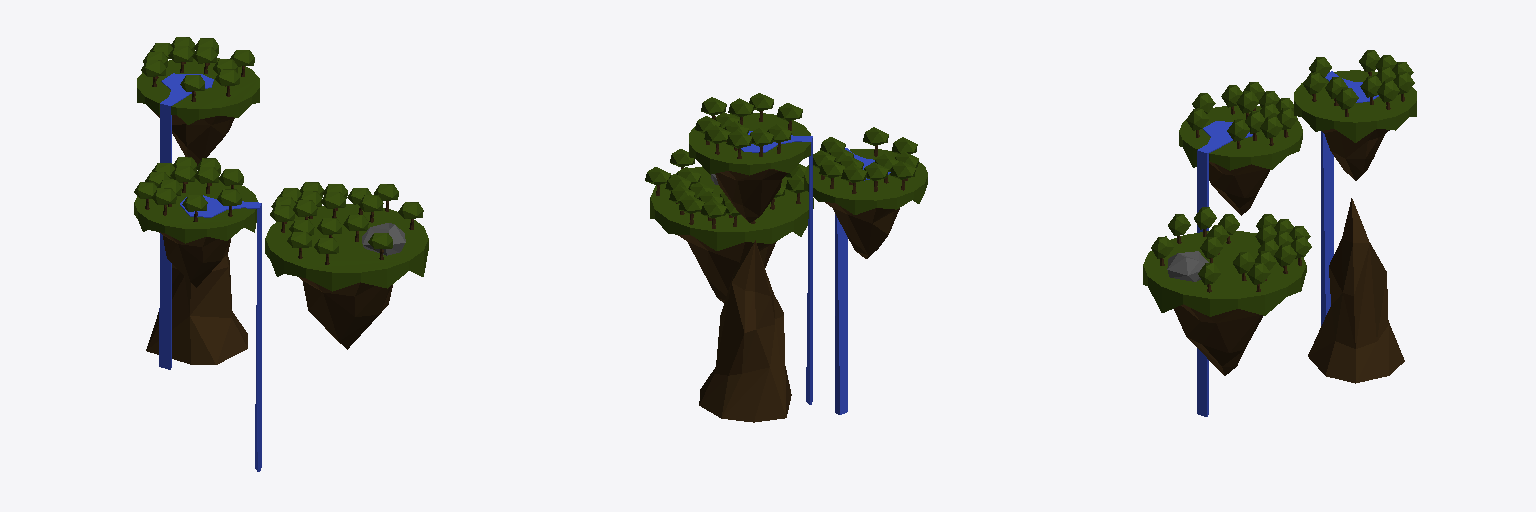
The model's file is islands.obj.
3 views of the same model, side by side, from view 1: azimuth 30°, elevation 25°; view 2: azimuth 150°, elevation 25°; view 3: azimuth 270°, elevation 25° (orthographic).
Visible parts, largest first — view 1: Grass_inst_3_1, Rock_0, Grass_1, Grass_inst_2_1, ground_inst_3_2, Water_inst_2_5, Water_5, ground_inst_2_2, ground_2, GeoSphere0_6; view 2: Rock_0, Grass_inst_3_1, Grass_1, Grass_inst_2_1, Water_5, ground_2, ground_inst_3_2, ground_inst_2_2, Water_inst_2_5; view 3: Rock_0, Grass_inst_3_1, Grass_1, Grass_inst_2_1, ground_inst_3_2, Water_inst_2_5, Water_5, ground_inst_2_2, ground_2, GeoSphere0_6.
Boxes of the visible parts, x1,y1,x2,y2 form: Grass_inst_3_1: [265, 204, 428, 291]; Rock_0: [146, 254, 247, 364]; Grass_1: [137, 58, 259, 124]; Grass_inst_2_1: [134, 179, 257, 243]; ground_inst_3_2: [299, 277, 392, 349]; Water_inst_2_5: [159, 73, 213, 369]; Water_5: [180, 195, 261, 471]; ground_inst_2_2: [159, 232, 230, 287]; ground_2: [151, 109, 234, 165]; GeoSphere0_6: [362, 223, 405, 255]; Rock_0: [699, 240, 791, 422]; Grass_inst_3_1: [650, 166, 813, 250]; Grass_1: [689, 113, 810, 175]; Grass_inst_2_1: [804, 149, 927, 214]; Water_5: [835, 148, 890, 414]; ground_2: [715, 169, 787, 222]; ground_inst_3_2: [678, 235, 776, 302]; ground_inst_2_2: [825, 202, 899, 258]; Water_inst_2_5: [741, 131, 812, 404]; Rock_0: [1308, 198, 1404, 383]; Grass_inst_3_1: [1143, 231, 1306, 316]; Grass_1: [1294, 70, 1416, 142]; Grass_inst_2_1: [1179, 105, 1302, 170]; ground_inst_3_2: [1174, 304, 1262, 375]; Water_inst_2_5: [1321, 71, 1378, 325]; Water_5: [1197, 121, 1252, 416]; ground_inst_2_2: [1209, 161, 1269, 215]; ground_2: [1322, 129, 1389, 180]; GeoSphere0_6: [1167, 251, 1208, 281].
Bounding box in the file's own units: 451 × 570 × 400.